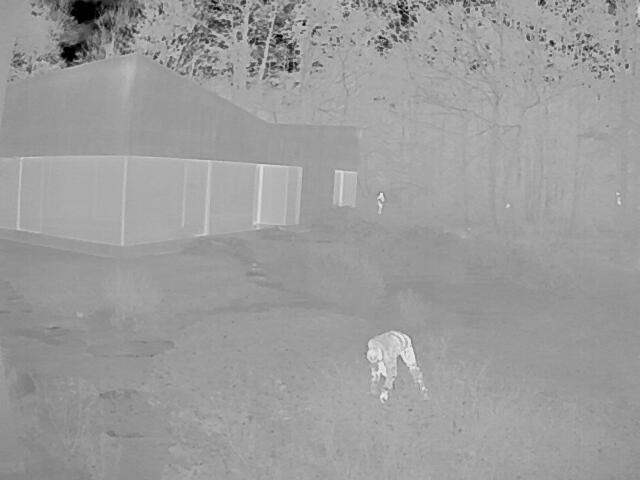person: (364, 329, 433, 403), (373, 191, 384, 215)
